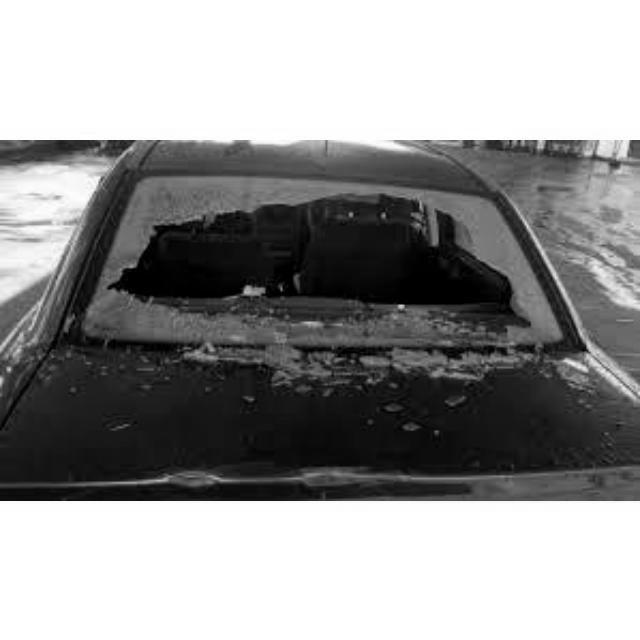Rear-windscreen-Damage: (43, 146, 605, 381)
